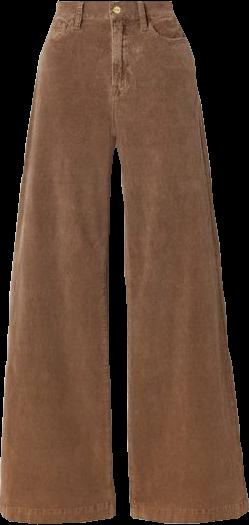Hemline: (129, 506, 248, 524), (0, 509, 116, 524)
Pantleg: (107, 0, 248, 523), (0, 0, 115, 523)
Waistline: (53, 10, 176, 21), (56, 0, 171, 5)
